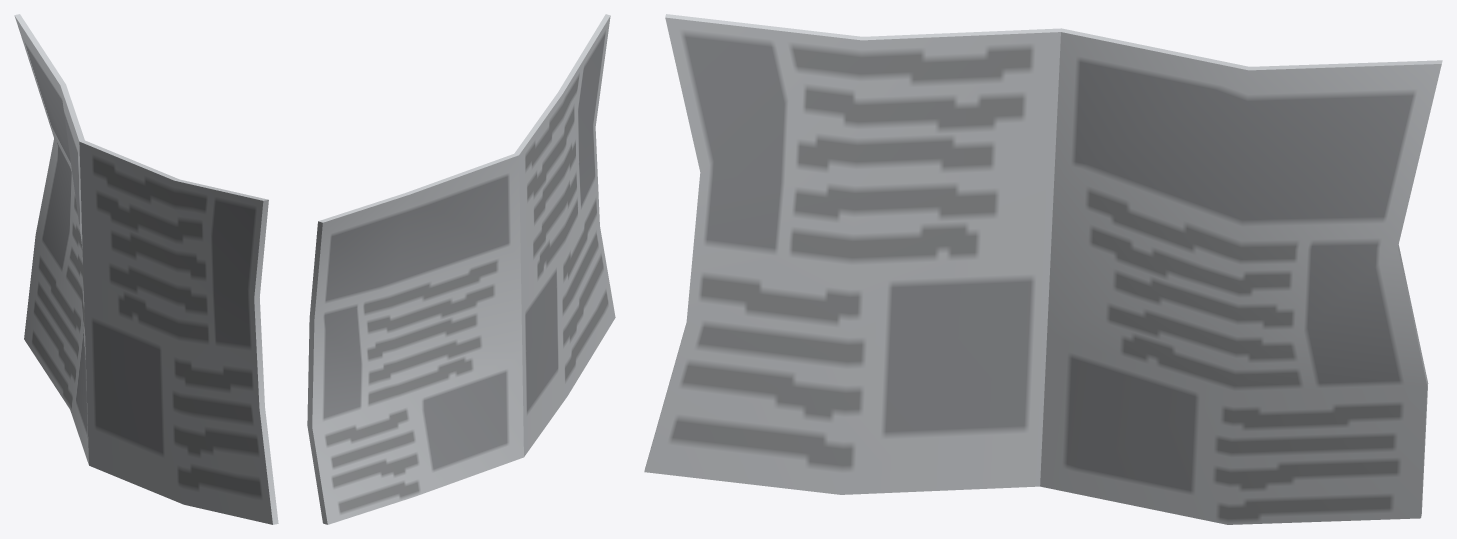
Rendered from Newspaper_open.fbx.
3 views of the same model, side by side, from view 1: azimuth 30°, elevation 25°; view 2: azimuth 150°, elevation 25°; view 3: azimuth 270°, elevation 25° (orthographic). The views are drawn at different scales.
Visible parts, largest first — view 1: Newspaper2; view 2: Newspaper2; view 3: Newspaper2.
Boxes of the visible parts, left/top/right/bottom form: Newspaper2: left=14, top=14, right=278, bottom=524; Newspaper2: left=307, top=14, right=615, bottom=524; Newspaper2: left=644, top=14, right=1442, bottom=524.
Bounding box in the file's own units: 21.14 × 72.65 × 104.
